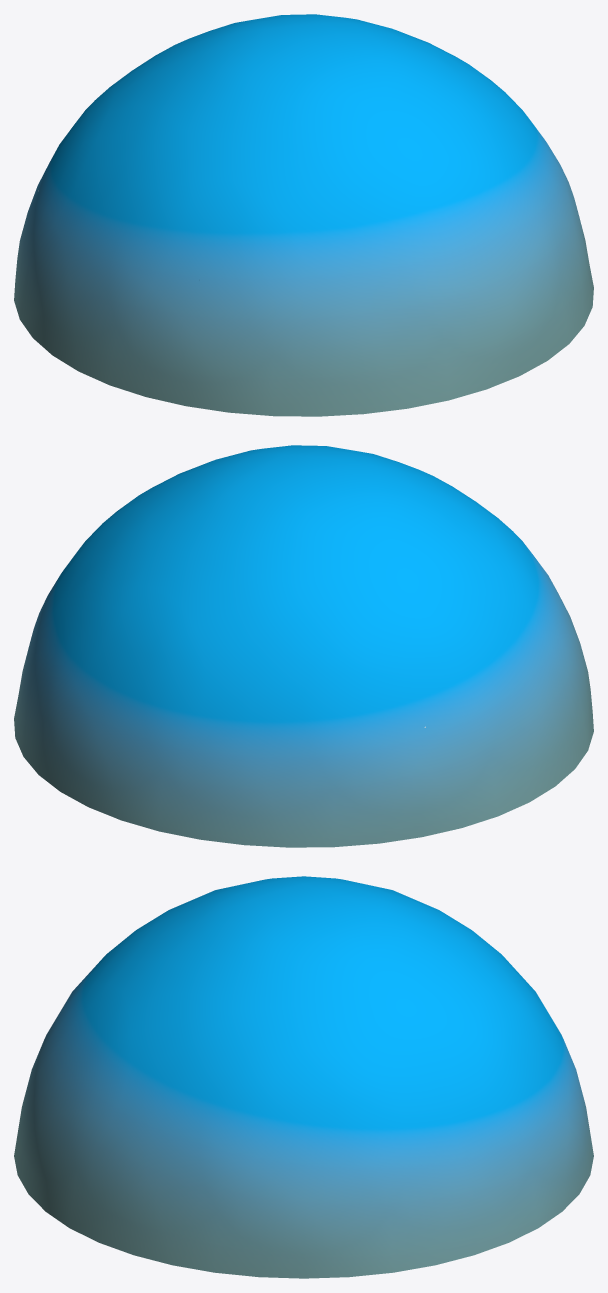
File: skybox 1.fbx
The picture shows the model from 3 angles, top to bottom: view 1: azimuth 30°, elevation 25°; view 2: azimuth 150°, elevation 25°; view 3: azimuth 270°, elevation 25°; orthographic projection.
Visible parts, largest first — view 1: skybox; view 2: skybox; view 3: skybox.
Part boxes in pixels (x1,y1,x2,y2): skybox: [14, 14, 593, 416]; skybox: [14, 445, 593, 847]; skybox: [14, 876, 593, 1278].
Bounding box in the file's own units: 500000 × 241284 × 500000.
